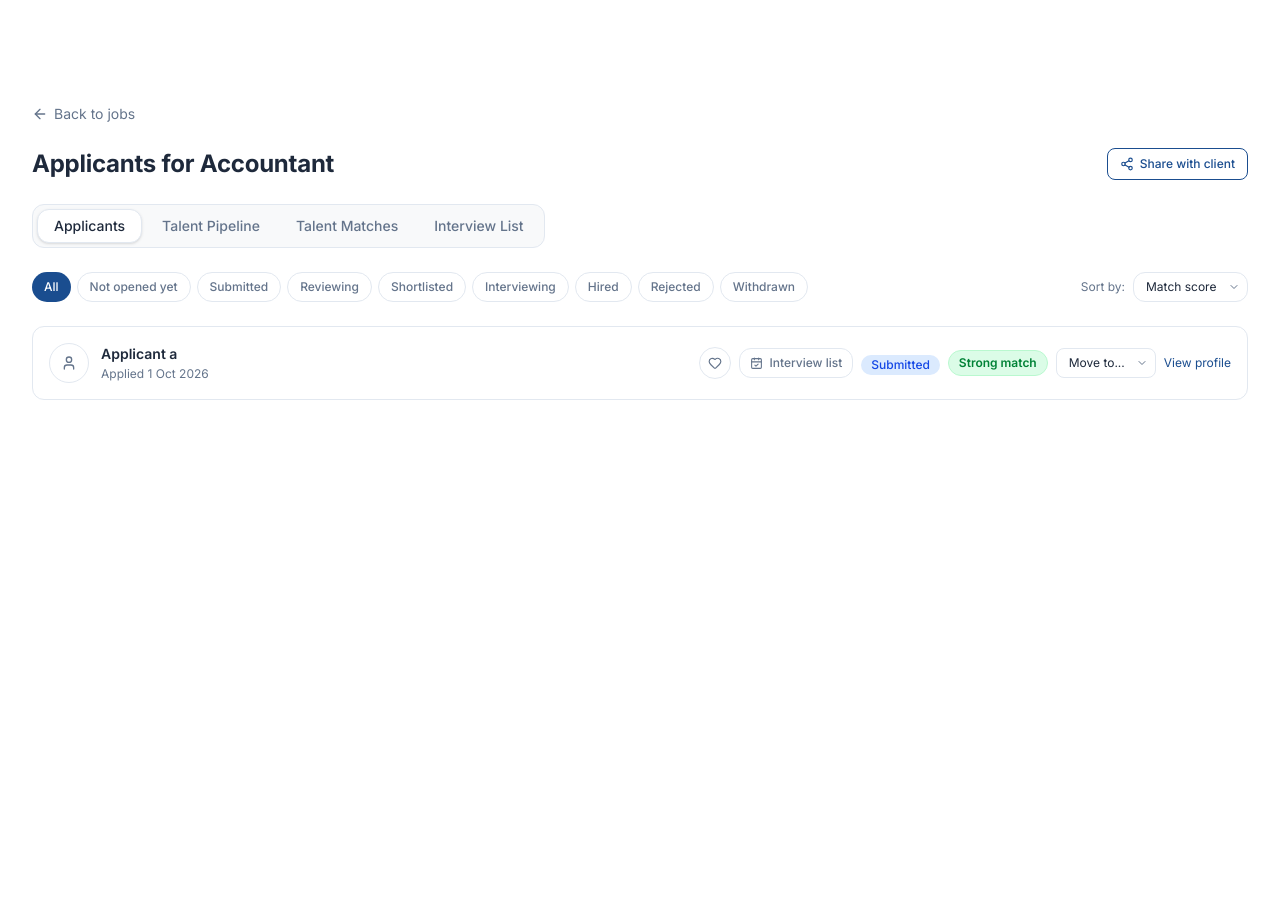
Test: ApplicantsPage, applicants with no score › still shows a real score with its reasons
This screenshot has width=1280, height=900.
Expected: the text "Applicant a" is shown, [101,345,177,362]
Click the button with aria-label "Match score: Strong match": [998, 363] box [948,350,1048,376]
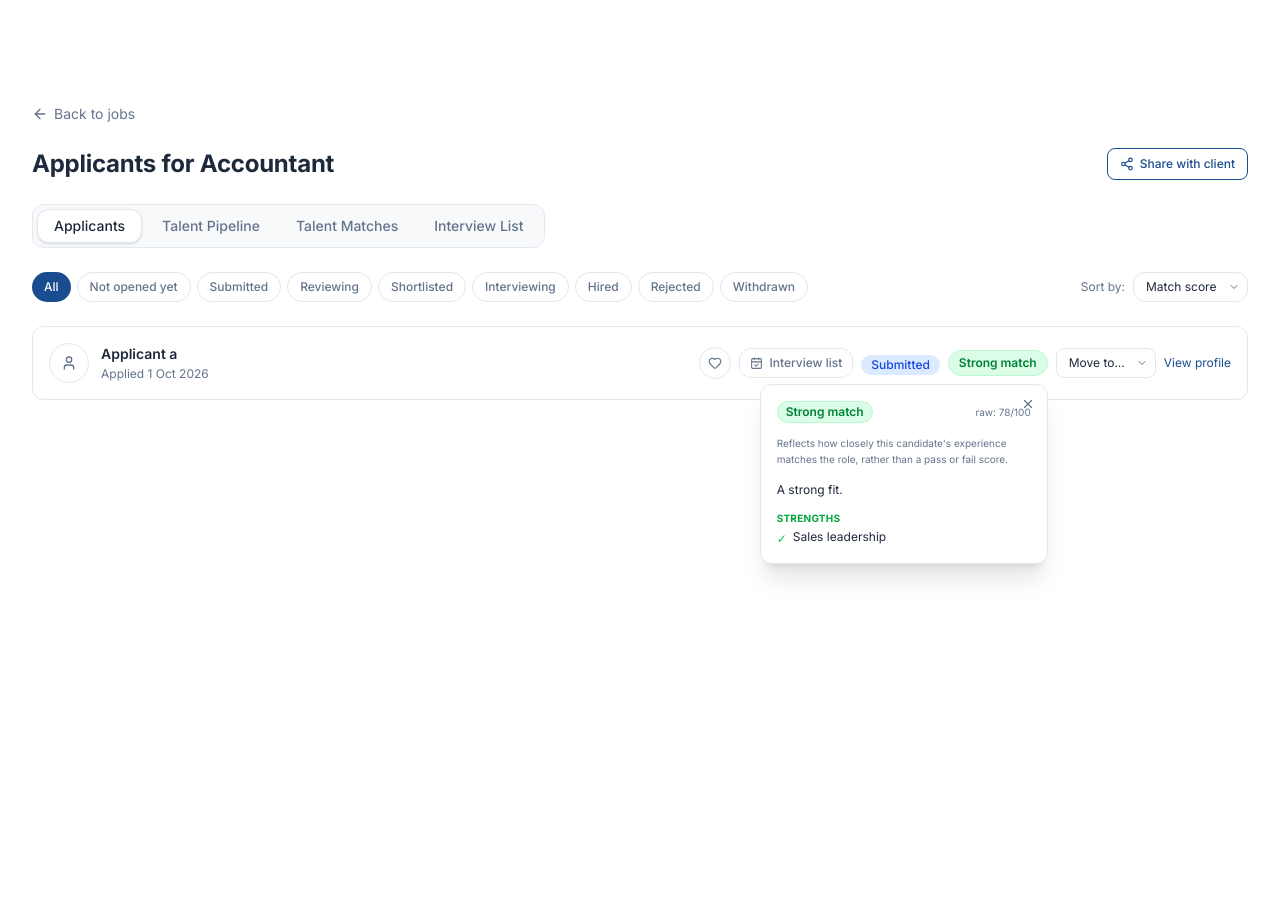
Expected: the dialog named "Fit reasoning" shows "raw: 78/100", [760,384,1048,564]
Expected: the dialog named "Fit reasoning" shows "A strong fit.", [777,482,843,496]
